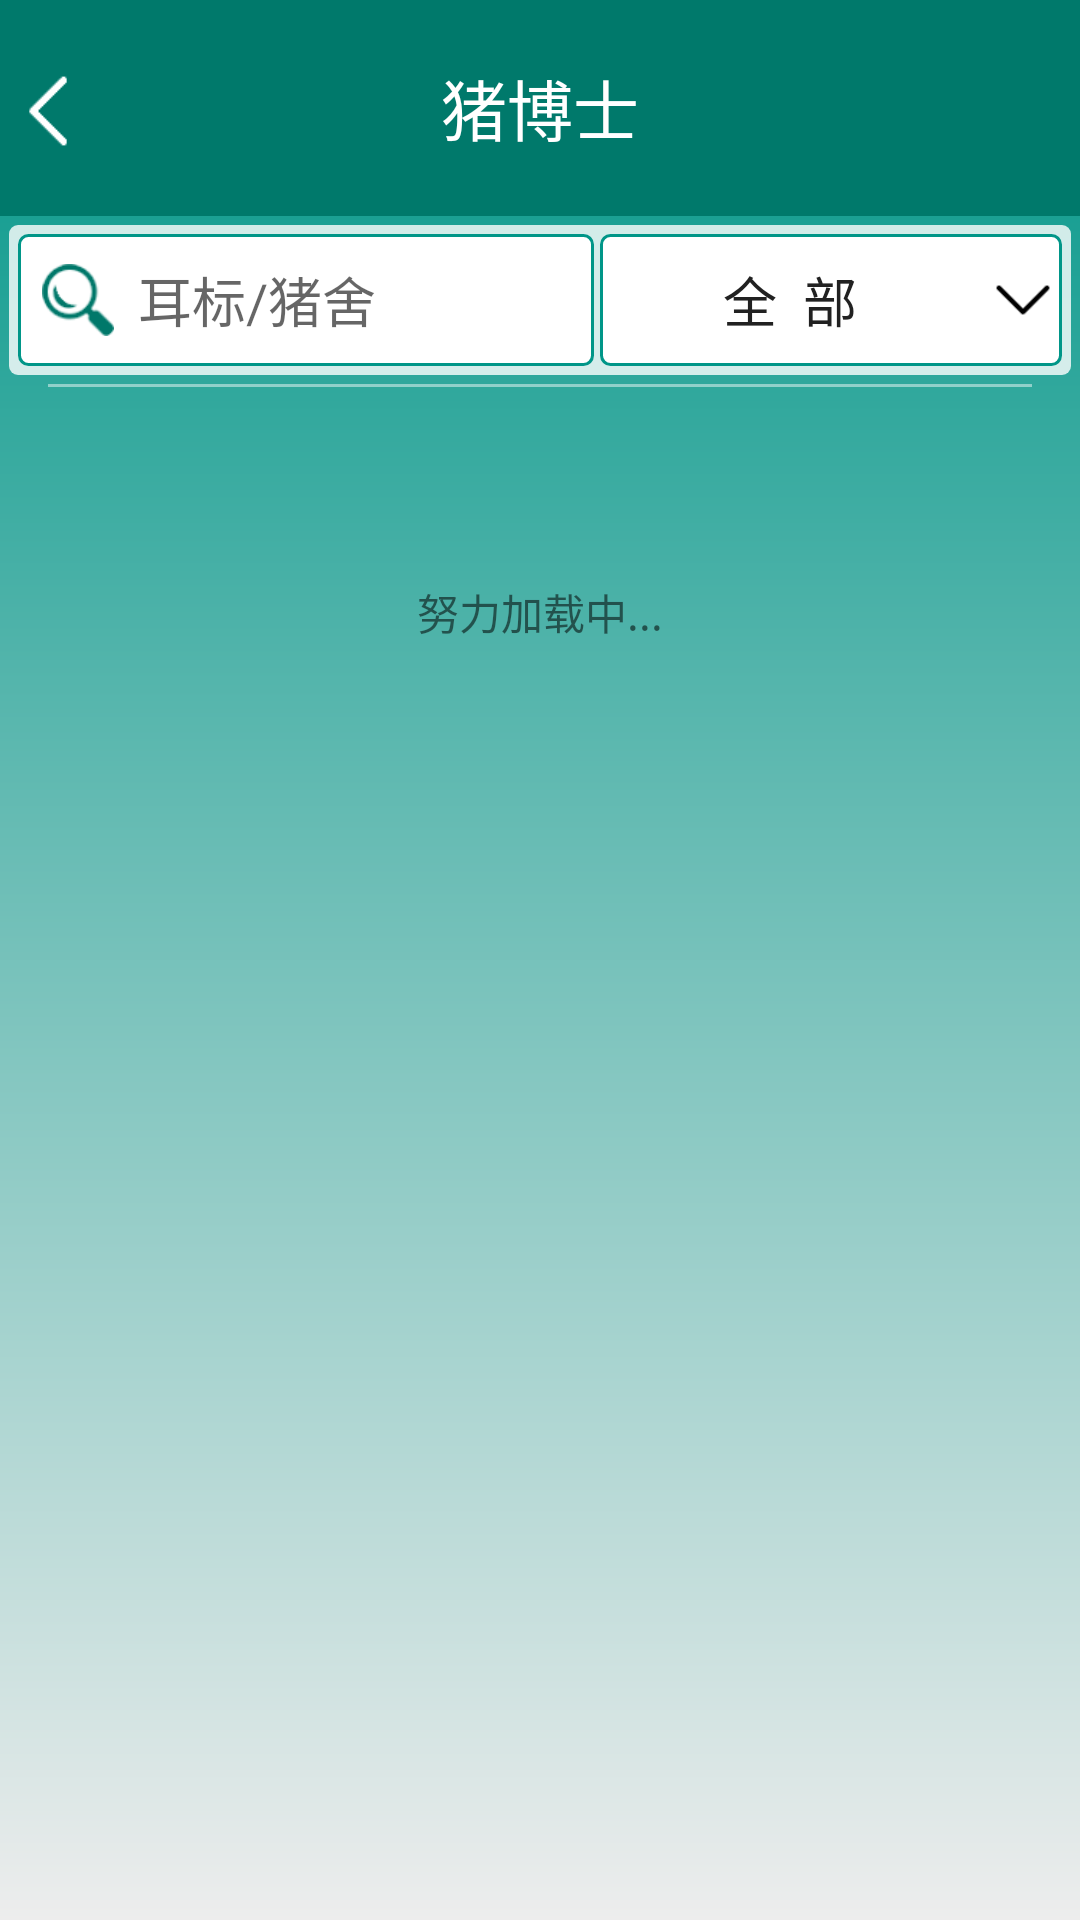

Icon bounding boxes for this 1080 × 1920 phone screenshot, format (x1, y1, x2, y2):
back: (29, 76, 67, 146)
down: (996, 285, 1050, 315)
search: (42, 264, 114, 336)
